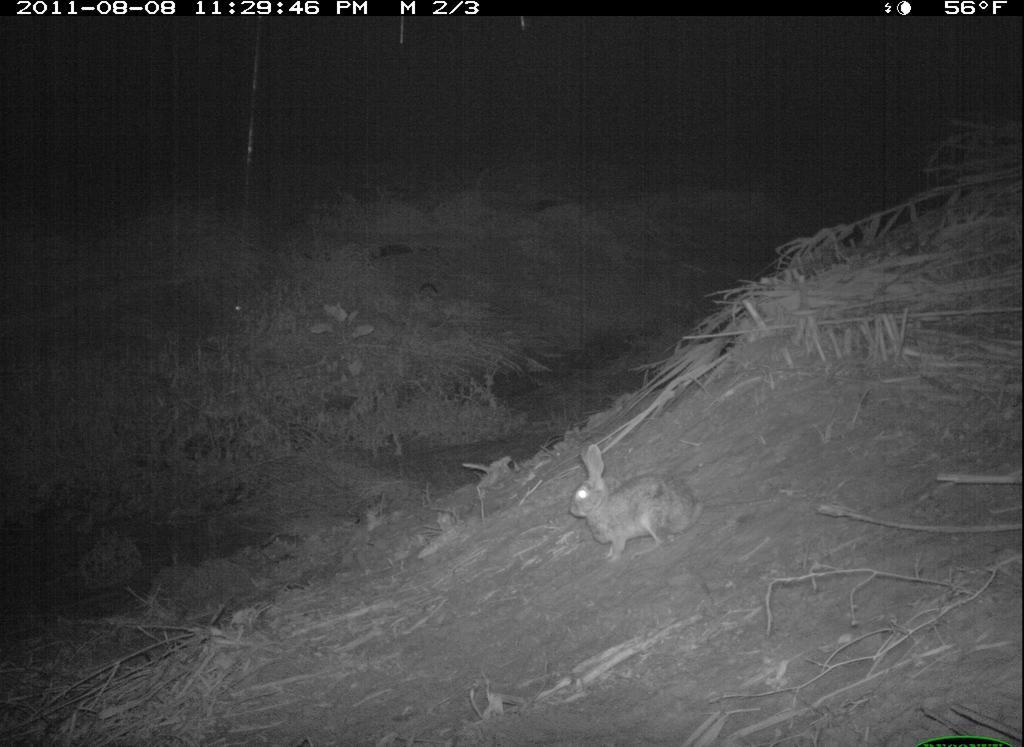rabbit: (557, 433, 719, 583)
